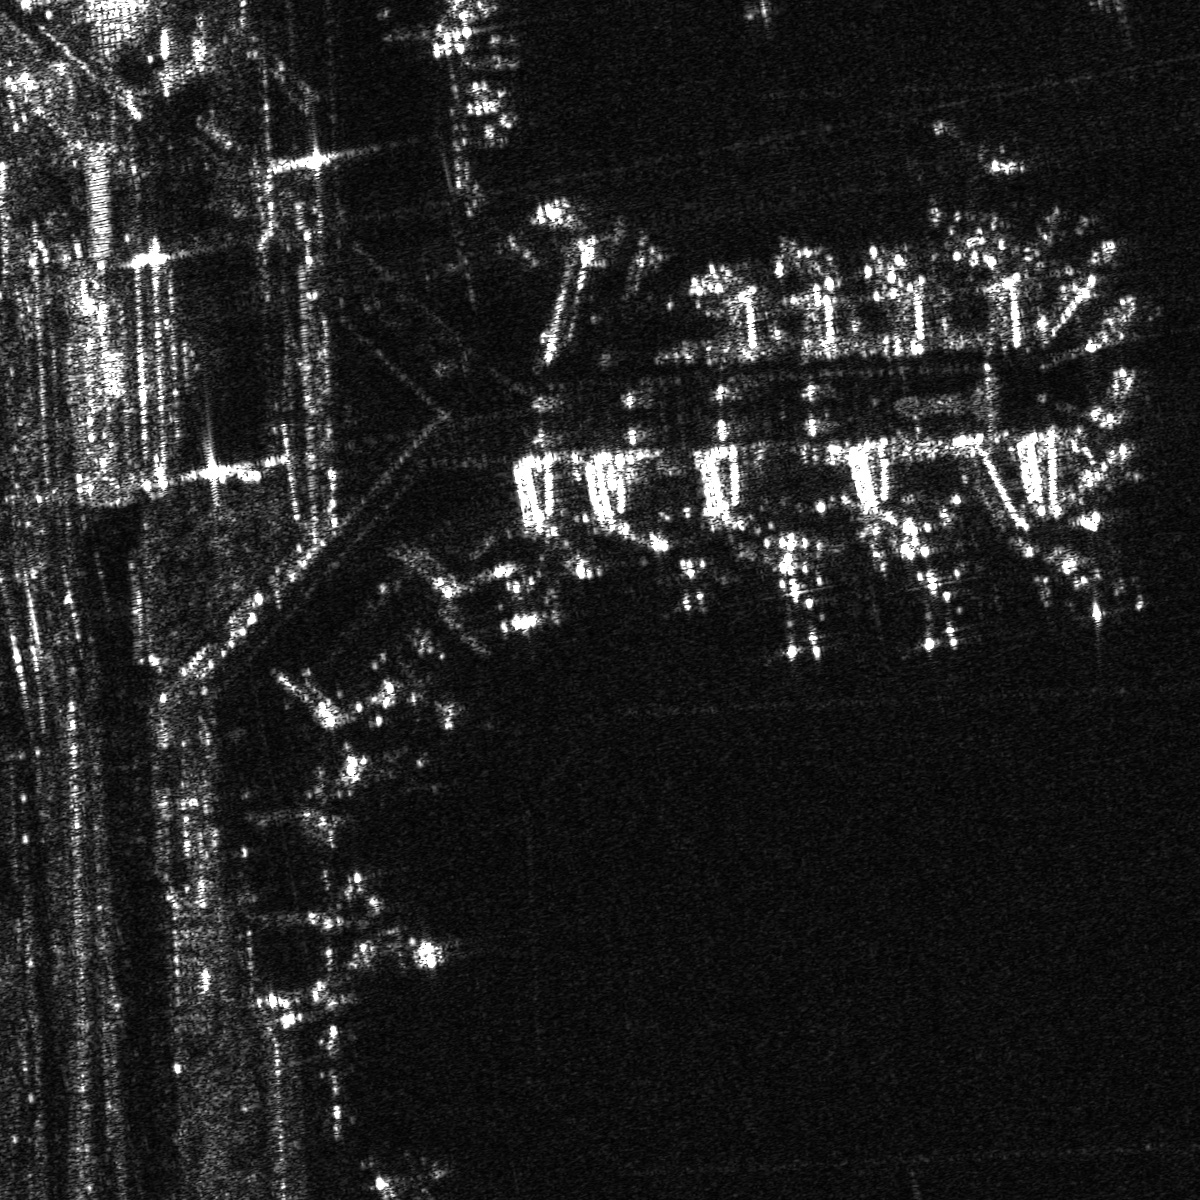A220: (899, 119, 1042, 214)
Boeing737: (1030, 538, 1118, 635)
Boeing787: (738, 574, 844, 664)
other: (888, 562, 988, 659)
